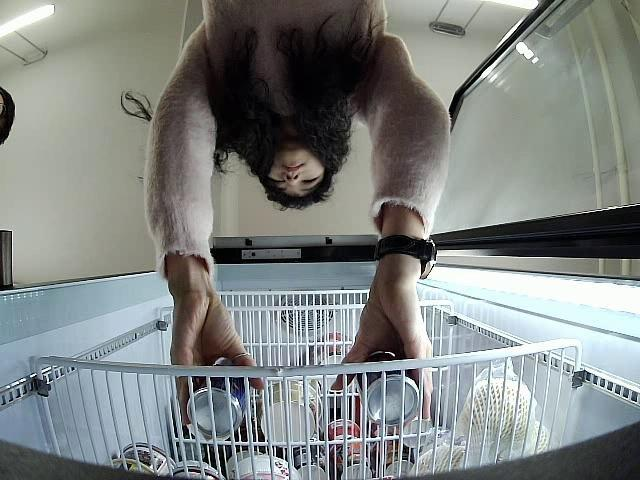16_hot6: (186, 355, 249, 439), (358, 354, 422, 426)
